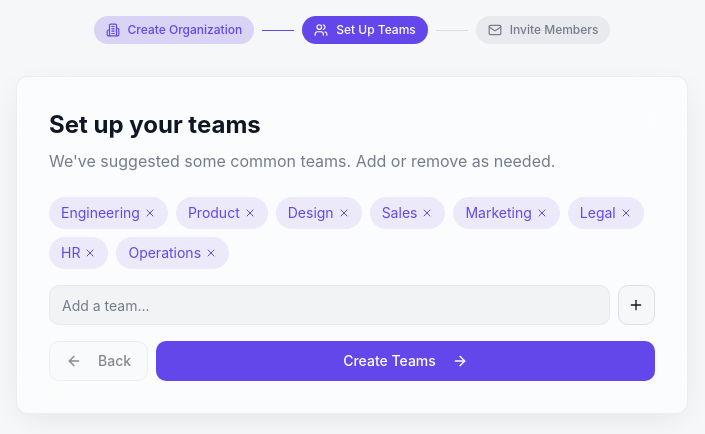
Onboarding › can add a custom team
This screenshot has width=705, height=434.
Earlier steps of the test are not shown.
Expected: the heading "Set up your teams" is shown, x1=49 y1=110 x2=261 y2=139
Type "Finance" into the field with placeholder "Add a team...".
click(330, 305); type("Finance")  # box x1=49 y1=285 x2=610 y2=325
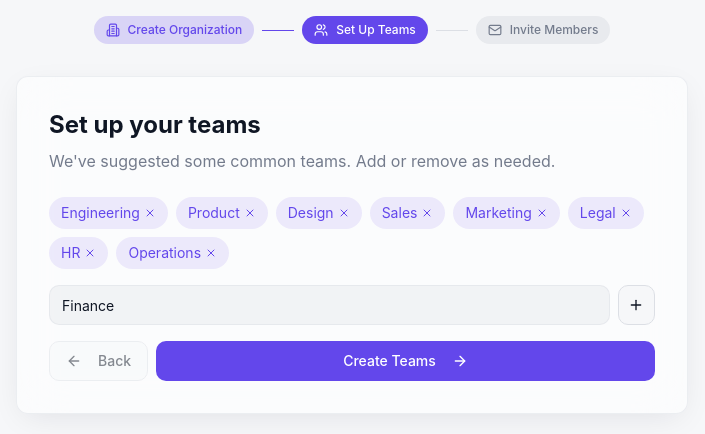
Press Enter in the field with placeholder "Add a team...", box x1=49 y1=285 x2=610 y2=325
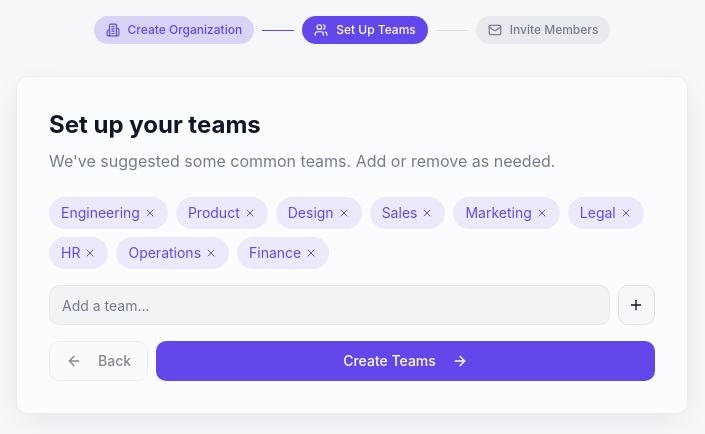
Expected: the text "Finance" is shown, x1=237 y1=237 x2=329 y2=269
